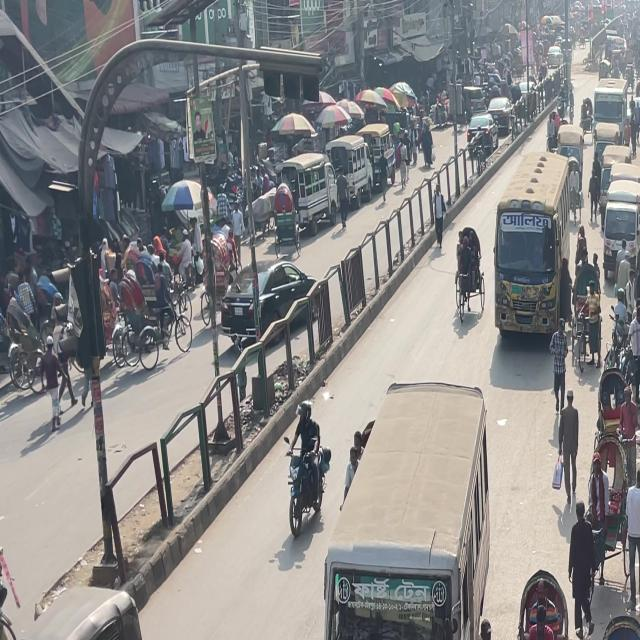bus: (497, 153, 587, 343), (319, 542, 472, 640), (584, 82, 628, 144)
motorbike: (282, 395, 334, 555)
